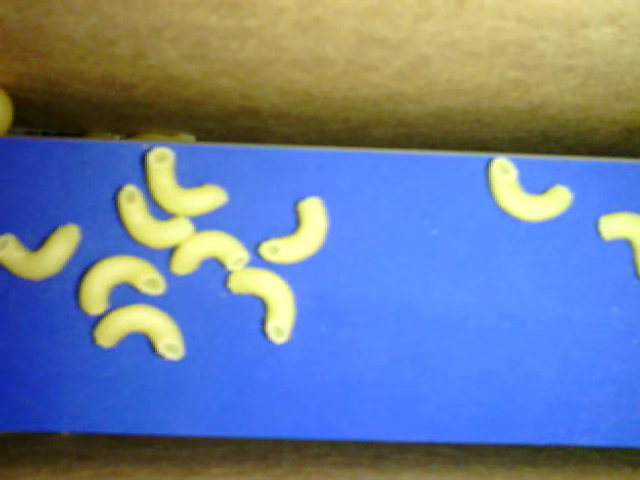elbow: (144, 144, 229, 218), (487, 156, 575, 225), (76, 254, 167, 318), (114, 182, 197, 251), (92, 304, 187, 363), (226, 268, 296, 346), (1, 220, 83, 282), (257, 196, 329, 265), (169, 230, 251, 278), (597, 209, 639, 280)
